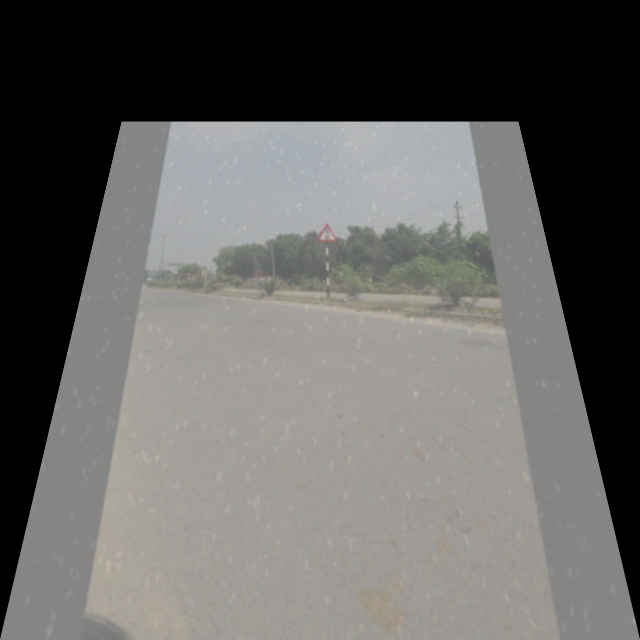Gap_in_Median: (313, 220, 342, 244)
